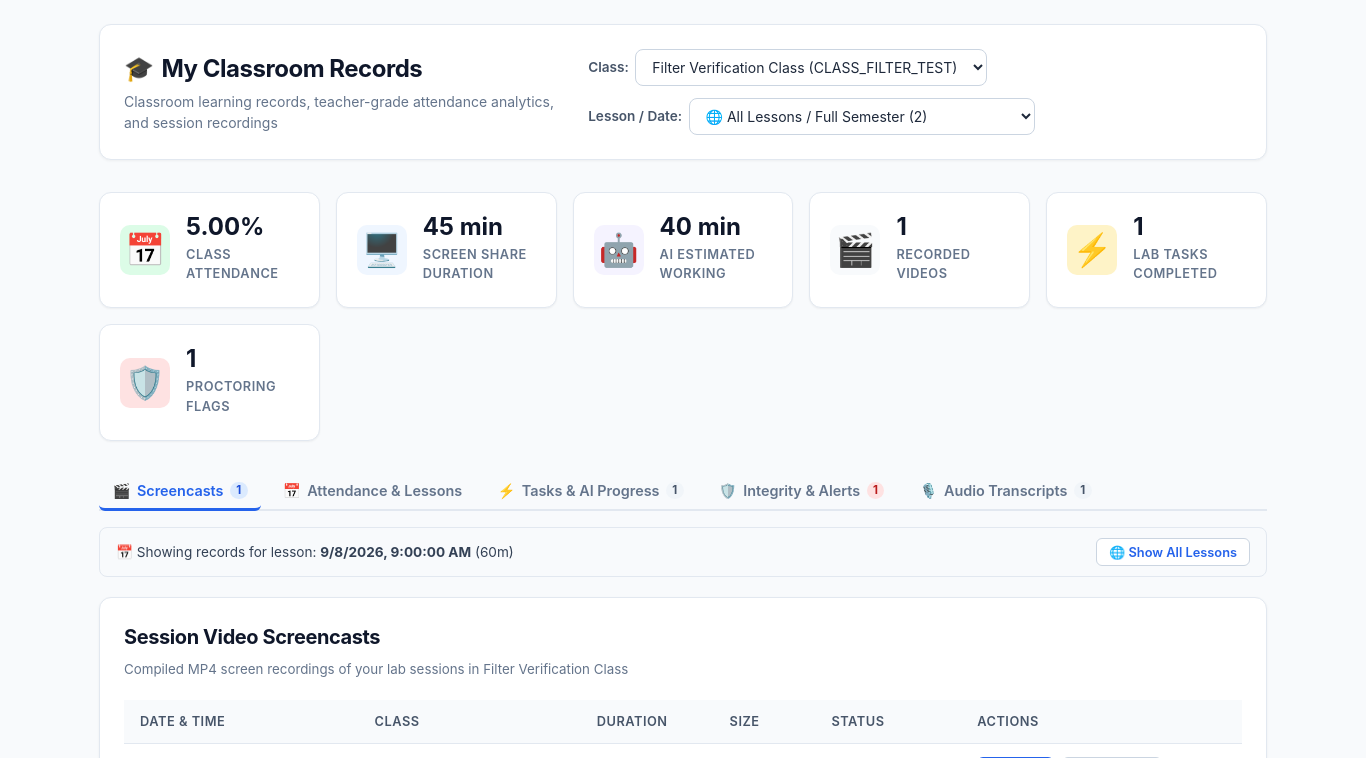
Test case: StudentRecordsView Component › filters all tabs (videos, tasks, alerts, audio) to the selected lesson and allows viewing all lessons
The width and height of the screenshot is (1366, 758).
expect the text "📅 Showing records for lesson: 9/8/2026, 9:00:00 AM (60m)" is shown: met, box [116,542,514,562]
// In Tasks tab:
Click the tab "⚡ Tasks & AI Progress 1" at (590, 492), box [484,473,697,511]
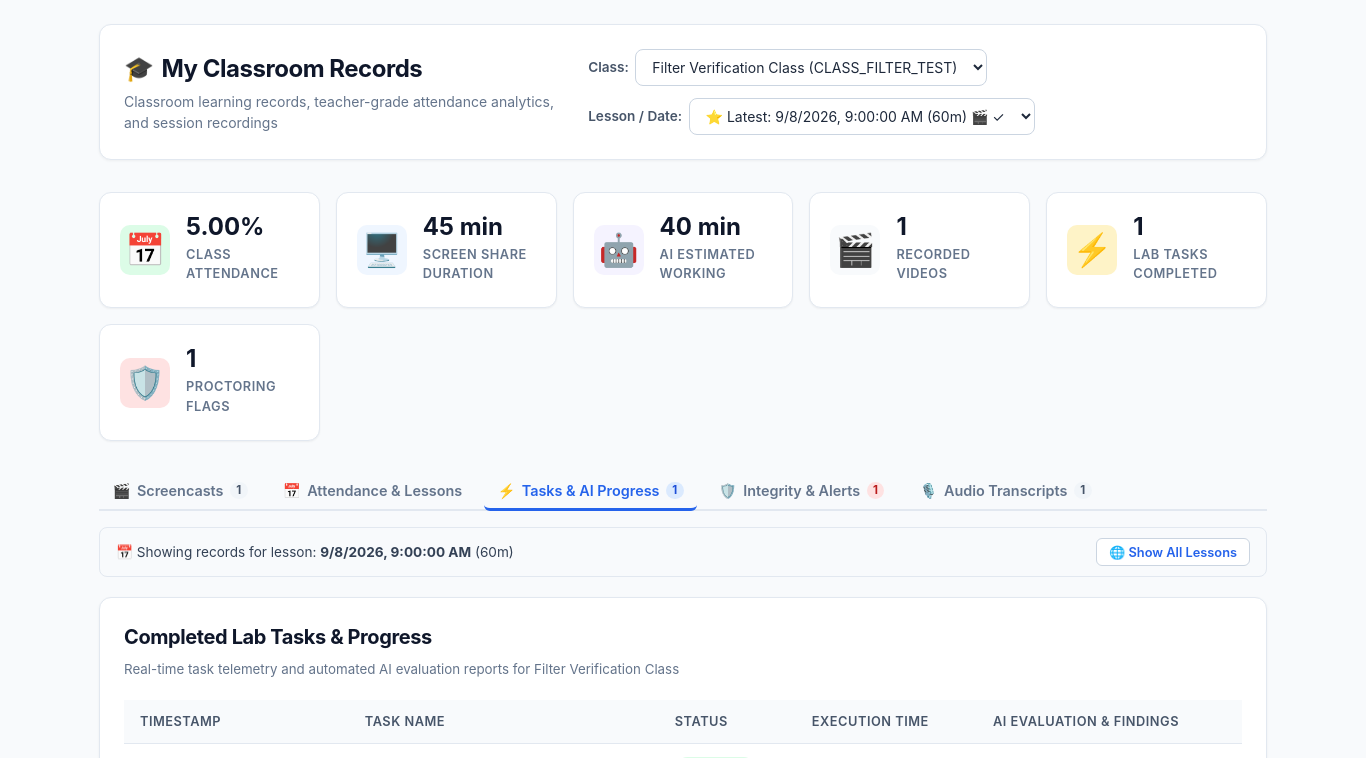
expect the text "Week 1: Basic Intro Lab" is not shown: met
// In Integrity tab:
Click the tab "🛡️ Integrity & Alerts 1" at (802, 492), box [705,473,898,511]
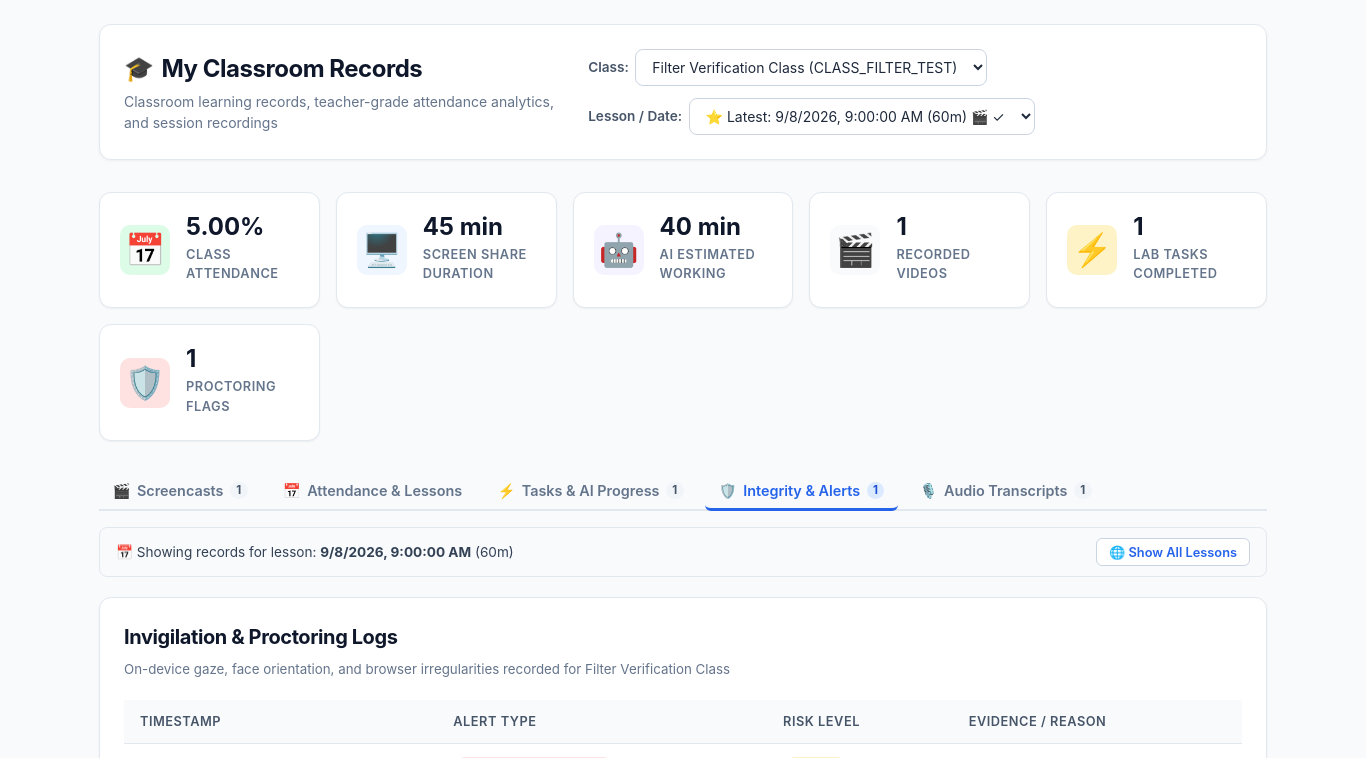
// In Audio tab:
Click the tab "🎙️ Audio Transcripts 1" at (1006, 492), box [906,473,1105,511]
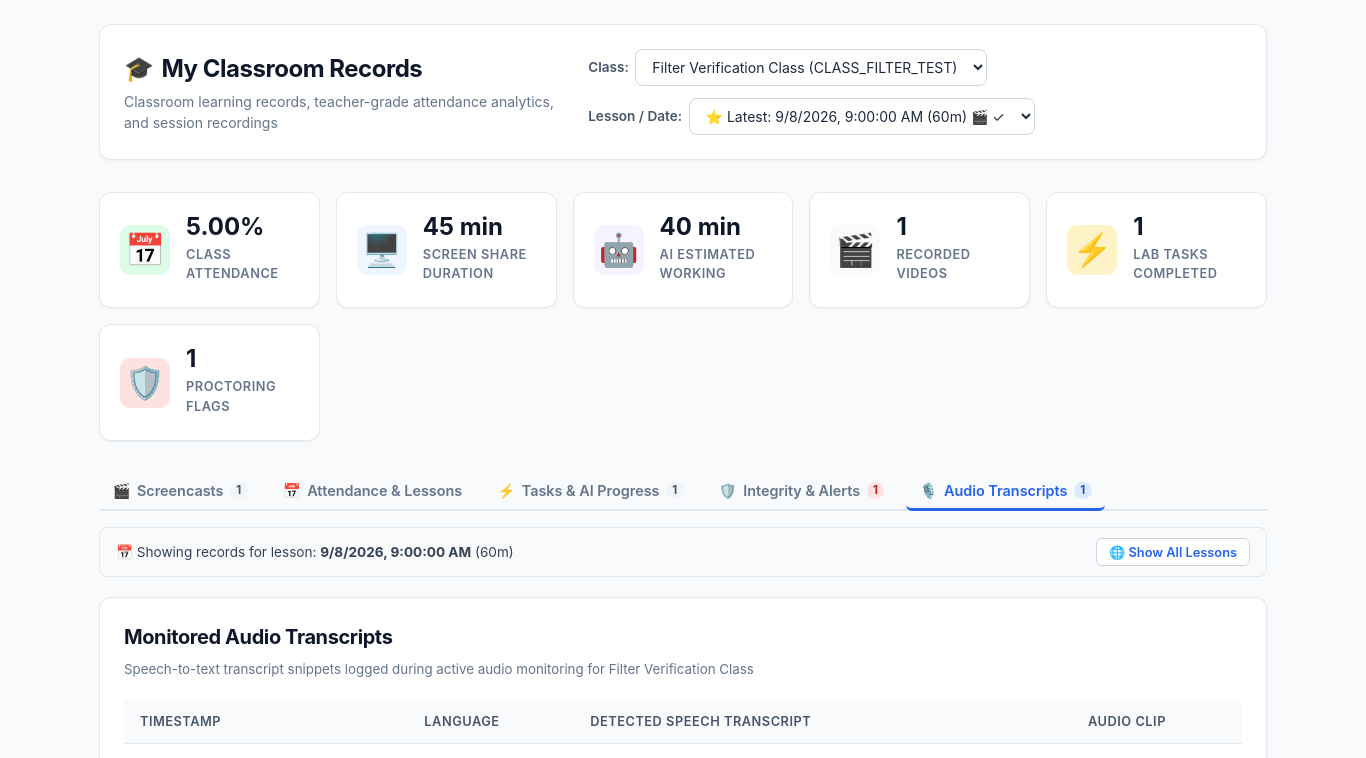
// Now switch to "All Lessons / Full Semester"
Select "🌐 All Lessons / Full Semester (2)" in the dropdown labelled "Lesson / Date:" at (862, 116), box [688,98,1034,135]
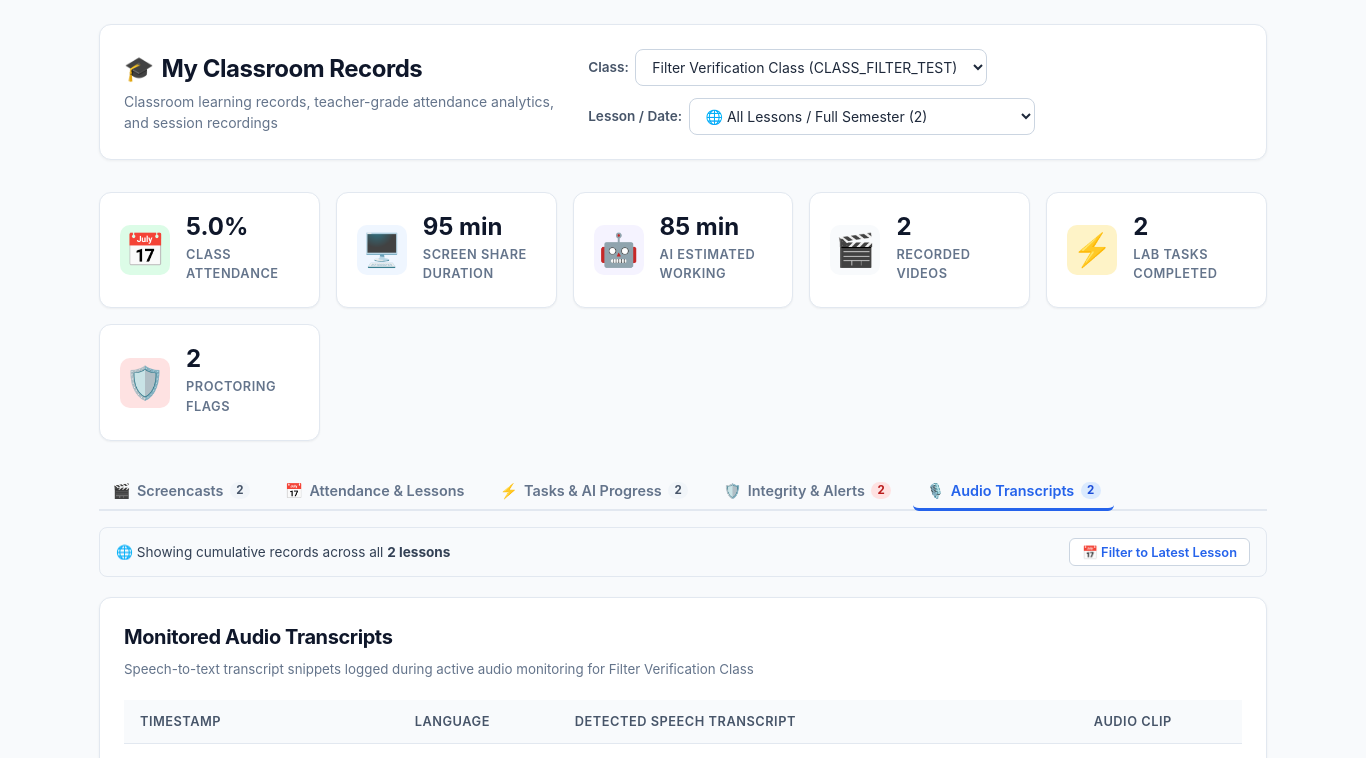
// Switch back to Tasks tab: both tasks should be visible
Click the tab "⚡ Tasks & AI Progress 2" at (594, 492), box [486,473,702,511]
(page scrolled)
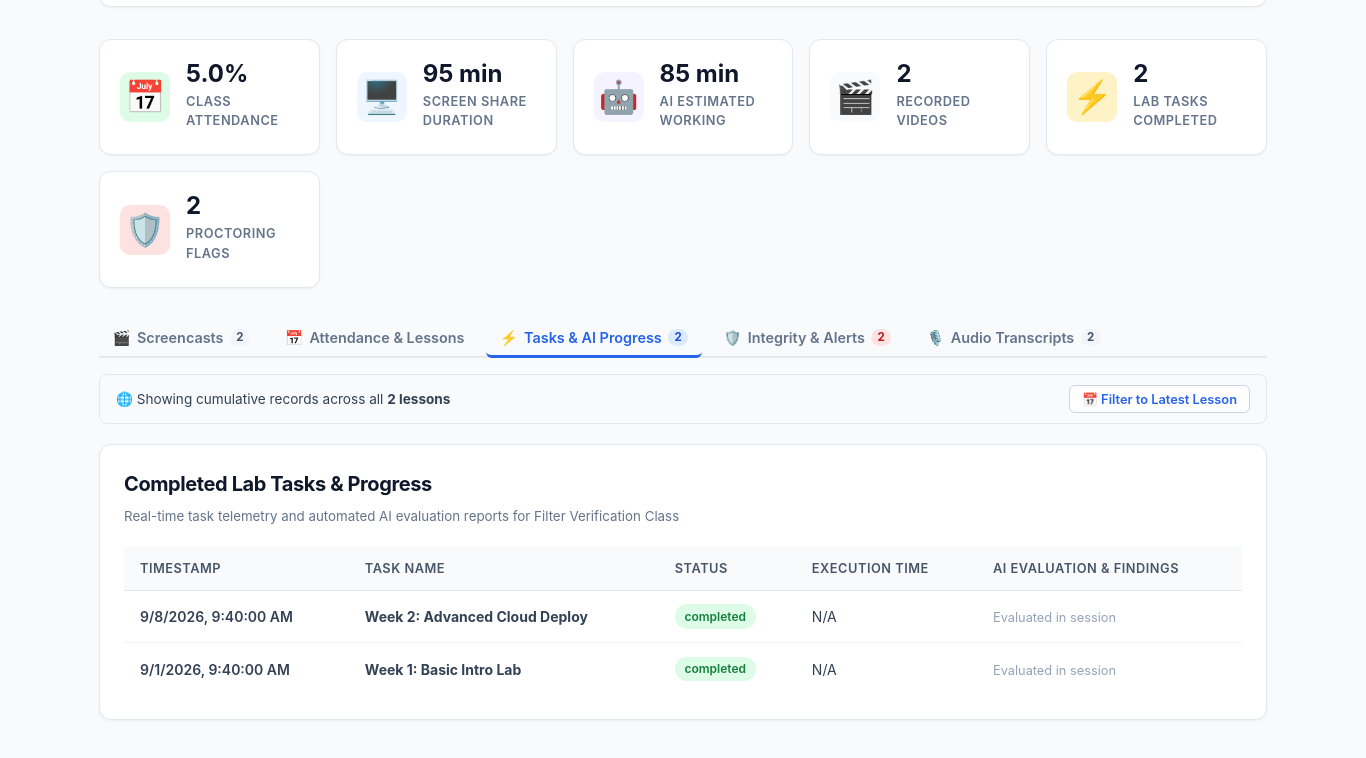
expect the text "Week 2: Advanced Cloud Deploy" is shown: met, box [365,608,588,625]
expect the text "Week 1: Basic Intro Lab" is shown: met, box [365,661,521,678]
